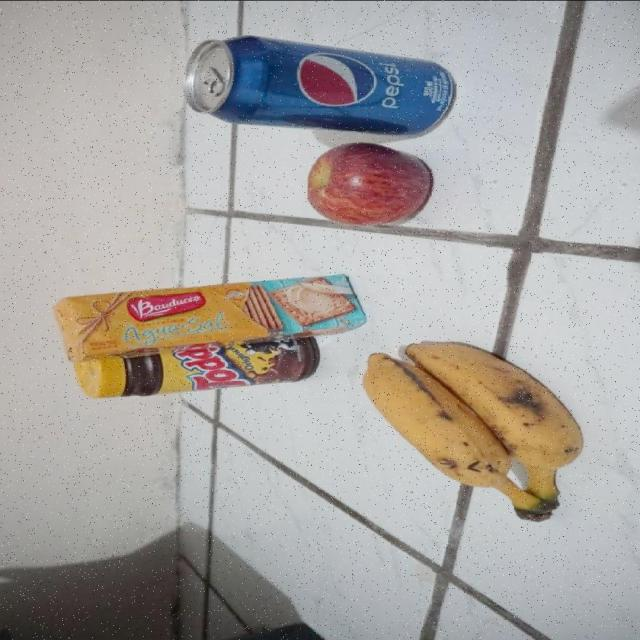Apple: (306, 141, 432, 226)
Banana: (362, 340, 586, 522)
ChocolatePowder: (71, 335, 322, 399)
Cracker: (52, 272, 368, 362)
SodaCan: (182, 32, 458, 136)
